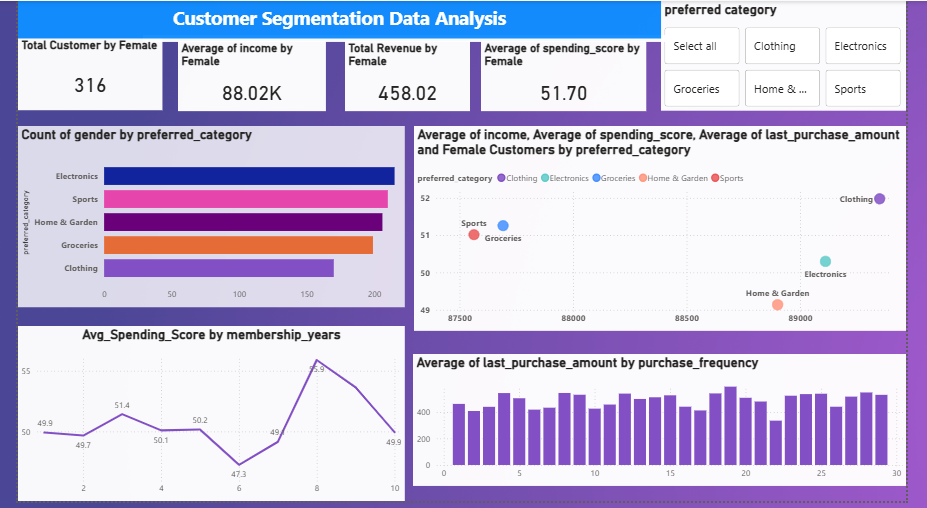

What the dashboard file says about the page in this screenshot:
{"tool":"powerbi","page":{"name":"Female","canvas":[1280,720],"ordinal":0},"visuals":[{"type":"kpi","fields":{"Indicator":["CountNonNull(customer_segmentation_data.id)"],"TrendLine":["customer_segmentation_data.gender"]},"box":[0,53.8,208.3,104.1],"z":0},{"type":"kpi","fields":{"TrendLine":["customer_segmentation_data.gender"],"Indicator":["Avg(customer_segmentation_data.income)"]},"box":[230.1,57.1,213.3,100.8],"z":1000},{"type":"kpi","fields":{"Indicator":["Avg(customer_segmentation_data.last_purchase_amount)"],"TrendLine":["customer_segmentation_data.gender"]},"box":[470.9,57.6,180,100.8],"z":2000},{"type":"kpi","fields":{"Indicator":["Avg(customer_segmentation_data.spending_score)"],"TrendLine":["customer_segmentation_data.gender"]},"box":[666.7,57.6,237.6,100.8],"z":3000},{"type":"clusteredBarChart","fields":{"Category":["customer_segmentation_data.preferred_category"],"Y":["CountNonNull(customer_segmentation_data.gender)"]},"box":[0,180,557.3,260.6],"z":4000},{"type":"columnChart","fields":{"Category":["customer_segmentation_data.purchase_frequency"],"Y":["Avg(customer_segmentation_data.last_purchase_amount)"]},"box":[569.4,509,710.6,189.8],"z":5000},{"type":"lineChart","fields":{"Category":["customer_segmentation_data.membership_years"],"Y":["customer_segmentation_data.Avg_Spending_Score"]},"box":[0,468,557.3,252],"z":6000},{"type":"scatterChart","fields":{"X":["Avg(customer_segmentation_data.income)"],"Y":["Avg(customer_segmentation_data.spending_score)"],"Series":["customer_segmentation_data.preferred_category"],"Size":["Avg(customer_segmentation_data.last_purchase_amount)"]},"box":[570.2,180,709.9,295.2],"z":7000},{"type":"advancedSlicerVisual","title":"preferred category","fields":{"Values":["customer_segmentation_data.preferred_category"]},"box":[925.9,0,352.8,158.4],"z":8000},{"type":"textbox","box":[180,49,846.6,5],"z":9000},{"type":"textbox","box":[0,0,925.6,53.8],"z":10000}]}

Visuals, with their boxes in screenshot pixels (x1, y1, x2, y2), scaled from the page's 1280x720 canvas onto the 927x508 screenshot:
kpi - CountNonNull(customer_segmentation_data.id) x customer_segmentation_data.gender: x1=0 y1=38 x2=151 y2=111
kpi - customer_segmentation_data.gender x Avg(customer_segmentation_data.income): x1=167 y1=40 x2=321 y2=111
kpi - Avg(customer_segmentation_data.last_purchase_amount) x customer_segmentation_data.gender: x1=341 y1=41 x2=471 y2=112
kpi - Avg(customer_segmentation_data.spending_score) x customer_segmentation_data.gender: x1=483 y1=41 x2=655 y2=112
clusteredBarChart - customer_segmentation_data.preferred_category x CountNonNull(customer_segmentation_data.gender): x1=0 y1=127 x2=404 y2=311
columnChart - customer_segmentation_data.purchase_frequency x Avg(customer_segmentation_data.last_purchase_amount): x1=412 y1=359 x2=926 y2=493
lineChart - customer_segmentation_data.membership_years x customer_segmentation_data.Avg_Spending_Score: x1=0 y1=330 x2=404 y2=507
scatterChart - Avg(customer_segmentation_data.income) x Avg(customer_segmentation_data.spending_score): x1=413 y1=127 x2=926 y2=335
"preferred category" advancedSlicerVisual: x1=671 y1=0 x2=926 y2=112
textbox: x1=130 y1=35 x2=743 y2=38
textbox: x1=0 y1=0 x2=670 y2=38
